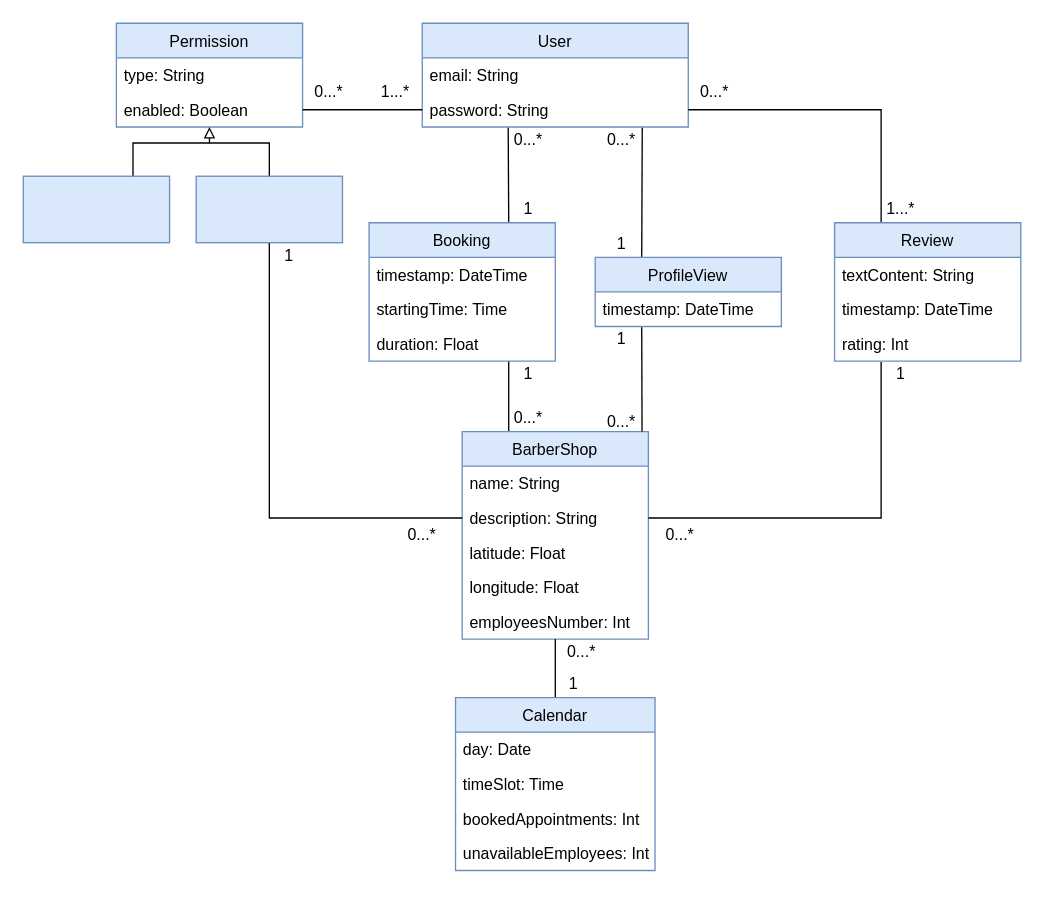
The diagram is 1044 pixels wide and 898 high, and some of its shapes have lost their labels. The centre of each missing label's shape, as x and y in pixels:
"GlobalPermission" belongs at [96,209].
"ShopPermission" belongs at [268,209].
